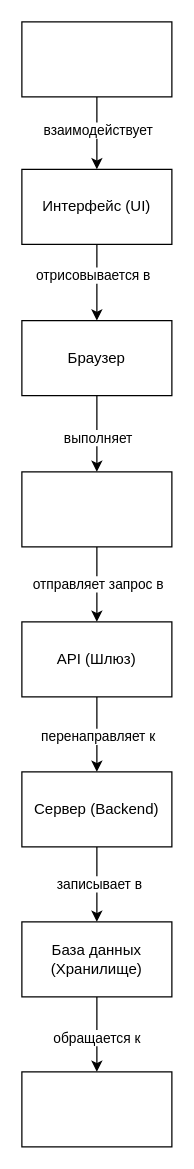
Some shapes in this 194 by 1169 pixel diagram are drawn without their labels. The centre of each missing label's shape, as x and y in pixels:
"Внешние сервисы (AWS / Cloudflare)" goes at point (96, 1109).
"Клиентская часть" goes at point (96, 509).
"Пользователь" goes at point (96, 59).
